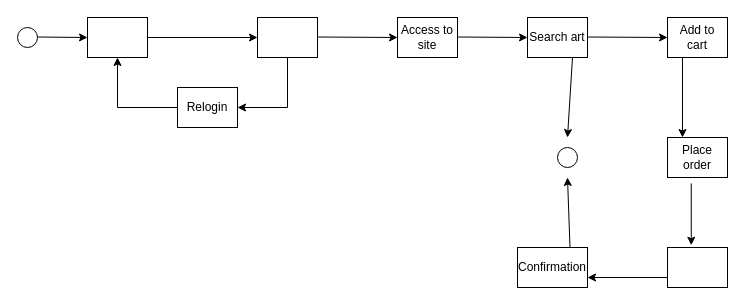
The diagram is 745 pixels wide and 305 high, and some of its shapes have lost their labels. The shapes that lost their labels are listed below. From the top down, each one's centre as x and y in pixels, then its label:
point (117, 37): Login
point (287, 37): verification
point (697, 267): Payment
